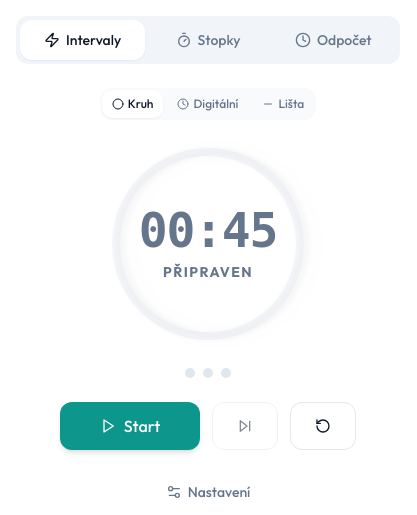
Test: ExerciseTimer counts in every mode › countdown: counts down
Click the button "Odpočet". click: click(333, 40)
box: [271,20,396,60]
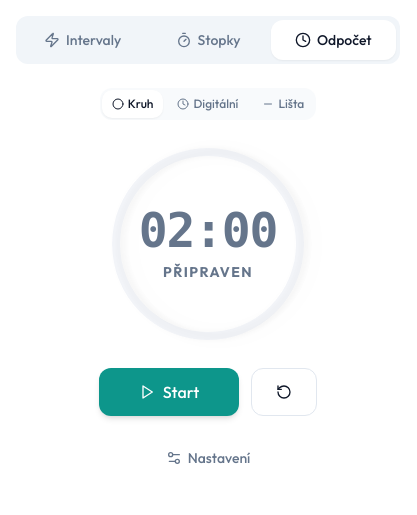
Click the button "Start". click: click(169, 392)
box: [99,368,239,416]
Wait 5000 ms
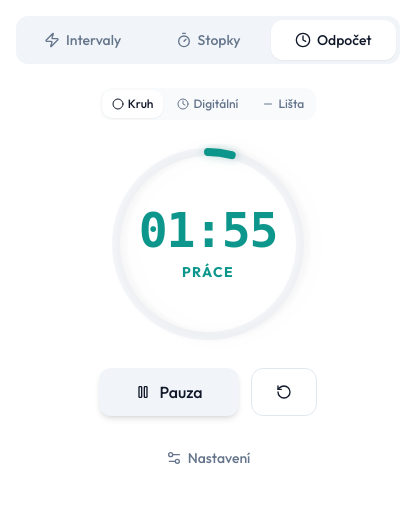
expect the text "01:55" is shown: met, box [139,206,277,254]
